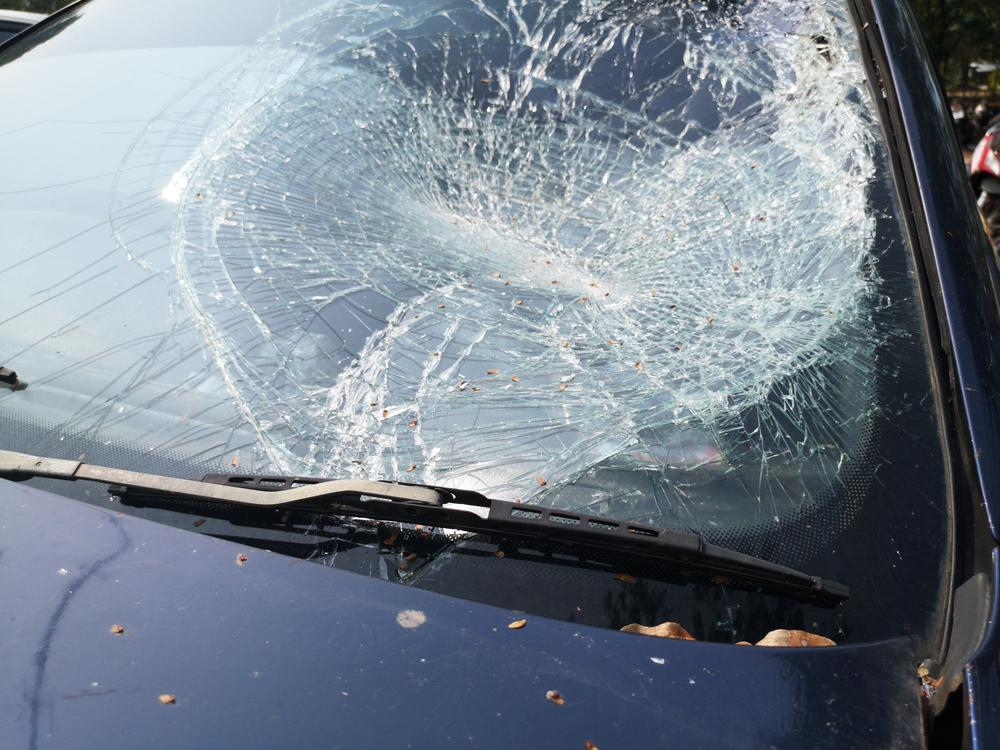glass shatter: (0, 0, 928, 636)
